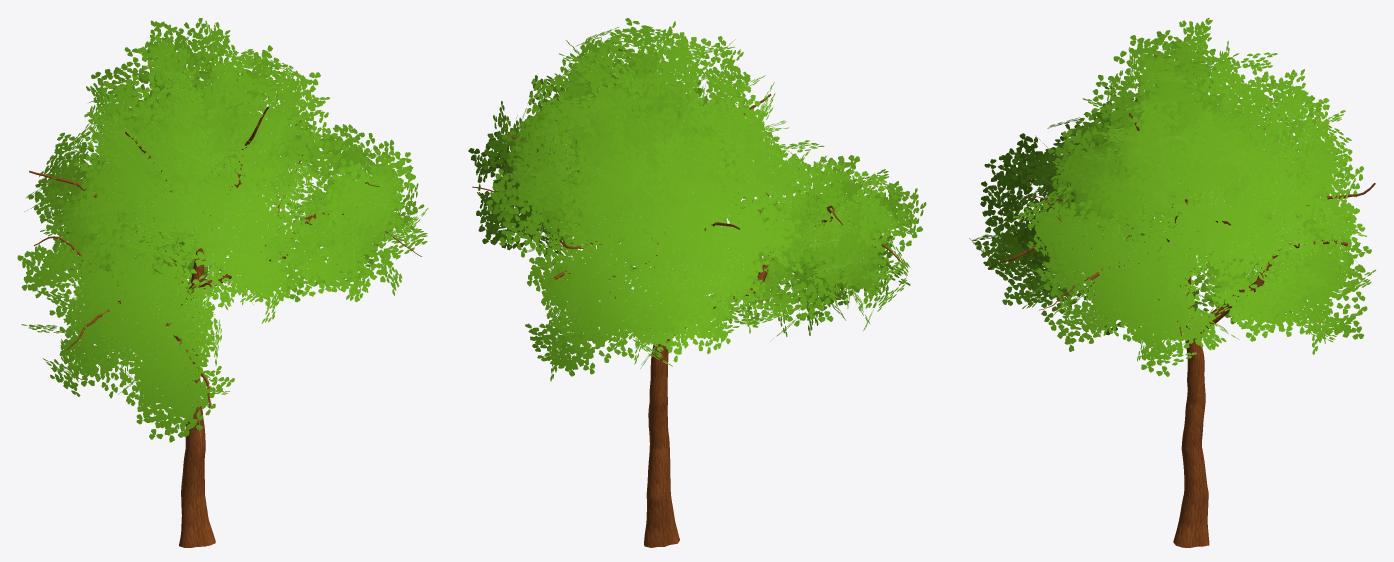
File: TallTree_Stylized.fbx
The picture shows the model from 3 angles, left to right: view 1: azimuth 30°, elevation 25°; view 2: azimuth 150°, elevation 25°; view 3: azimuth 270°, elevation 25°; orthographic projection.
Visible parts, largest first — view 1: Leaves_1, Leaves_2, TallTree; view 2: Leaves_1, Leaves_2, TallTree; view 3: Leaves_1, Leaves_2, TallTree.
Part boxes in pixels (bbox=[...]): Leaves_1: bbox=[24, 18, 348, 304]; Leaves_2: bbox=[17, 124, 428, 442]; TallTree: bbox=[29, 107, 421, 547]; Leaves_1: bbox=[486, 18, 817, 362]; Leaves_2: bbox=[468, 48, 926, 381]; TallTree: bbox=[472, 52, 902, 547]; Leaves_1: bbox=[1047, 18, 1366, 324]; Leaves_2: bbox=[969, 85, 1375, 376]; TallTree: bbox=[988, 55, 1375, 547].
Bounding box in the file's own units: 176 × 206 × 152.
